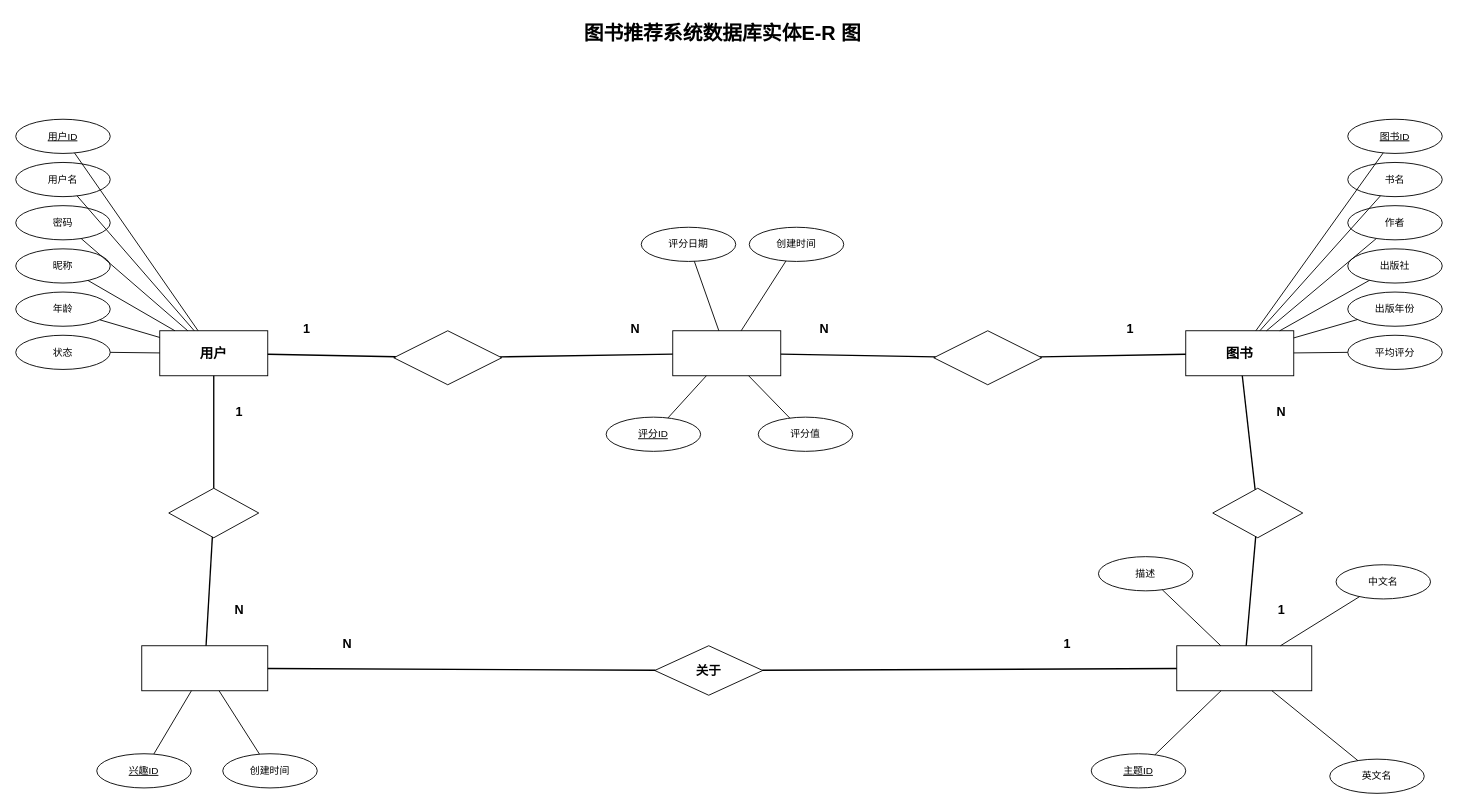
This 1458x809 diagram has some shape labels left out. The centre of each missing label's shape, as x and y in pixels:
产生: (x=447, y=357)
图书主题: (x=1244, y=668)
属于: (x=1257, y=512)
拥有: (x=213, y=512)
用户兴趣: (x=204, y=668)
评分: (x=726, y=353)
针对: (x=987, y=357)
